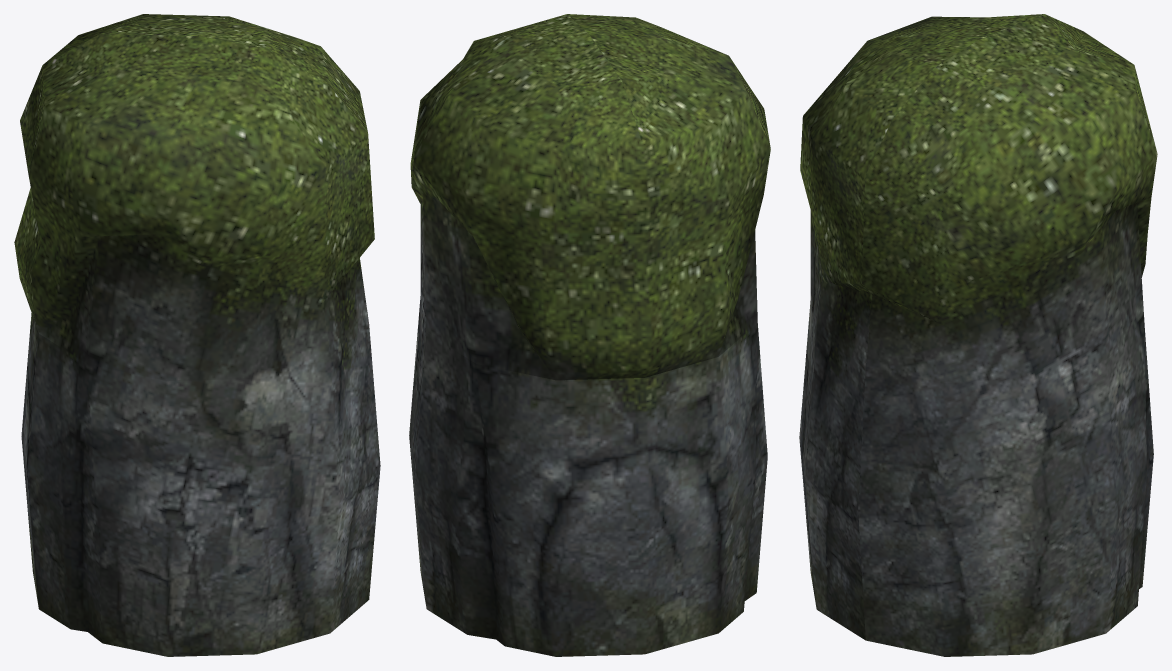
Rendered from moss_rock_04.fbx.
3 renders of one model, left to right at view 1: azimuth 30°, elevation 25°; view 2: azimuth 150°, elevation 25°; view 3: azimuth 270°, elevation 25°, orthographic.
Visible parts, largest first — view 1: objMoss_rock04; view 2: objMoss_rock04; view 3: objMoss_rock04.
Part boxes in pixels (x1,y1,x2,y2): objMoss_rock04: [14, 14, 380, 656]; objMoss_rock04: [409, 14, 770, 656]; objMoss_rock04: [799, 14, 1157, 656].
Bounding box in the file's own units: 1.59 × 2.69 × 1.6.
